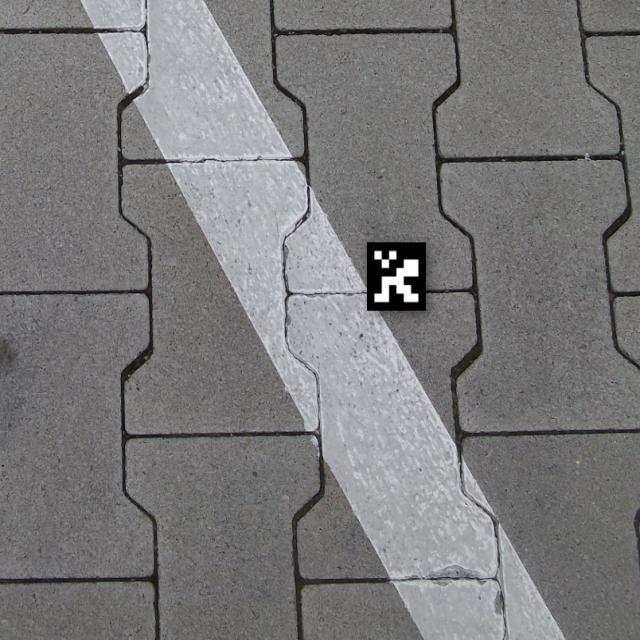marker: (356, 230, 438, 323)
